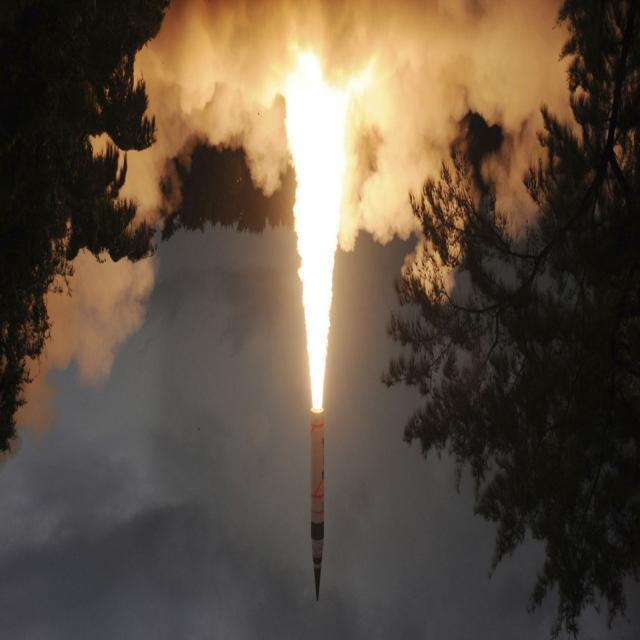Missile: (308, 396, 330, 610)
